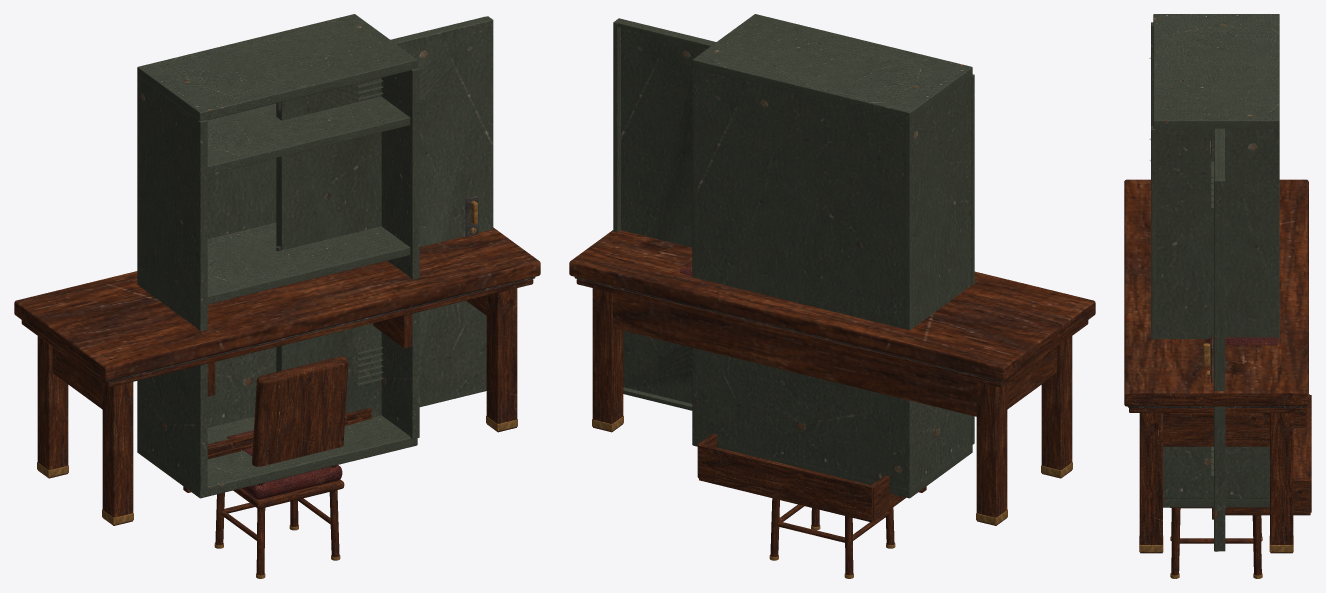
File: office-kit.glb
3 views of the same model, side by side, from view 1: azimuth 30°, elevation 25°; view 2: azimuth 150°, elevation 25°; view 3: azimuth 270°, elevation 25° (orthographic).
Visible parts, largest first — view 1: LockerShell, Desk, LockerDoor, Chair, Drawer; view 2: LockerShell, Desk, LockerDoor, Drawer, Chair; view 3: LockerShell, Desk, LockerDoor, Drawer, Chair.
Boxes of the visible parts, box(x1,y1,x2,y2) form: LockerShell: box(137, 14, 419, 498); Desk: box(14, 227, 540, 525); LockerDoor: box(276, 16, 493, 417); Chair: box(214, 356, 348, 578); Drawer: box(183, 407, 371, 492); LockerShell: box(692, 14, 974, 498); Desk: box(569, 230, 1095, 525); LockerDoor: box(613, 18, 716, 410); Drawer: box(697, 433, 926, 522); Chair: box(769, 498, 895, 578); LockerShell: box(1149, 14, 1279, 507); Desk: box(1124, 179, 1308, 553); LockerDoor: box(1203, 128, 1225, 551); Drawer: box(1211, 394, 1311, 519); Chair: box(1170, 507, 1262, 578).
Bounding box in the file's own units: 2.6 × 2.79 × 0.965.
Materials: 6 (6 with a texture image).
